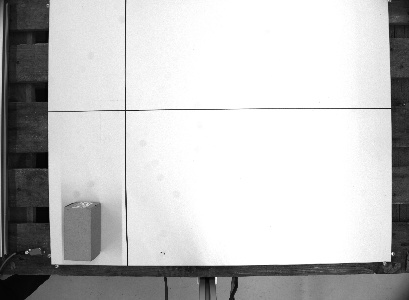b2: (61, 198, 103, 263)
